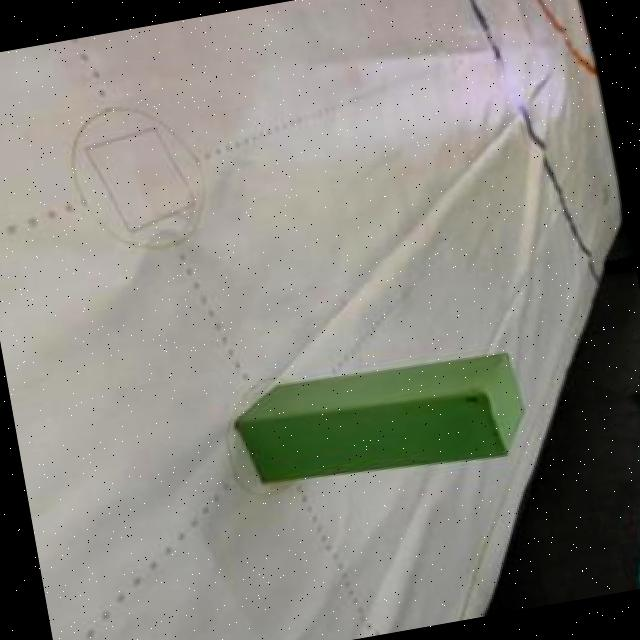greenbox: (228, 344, 536, 506)
